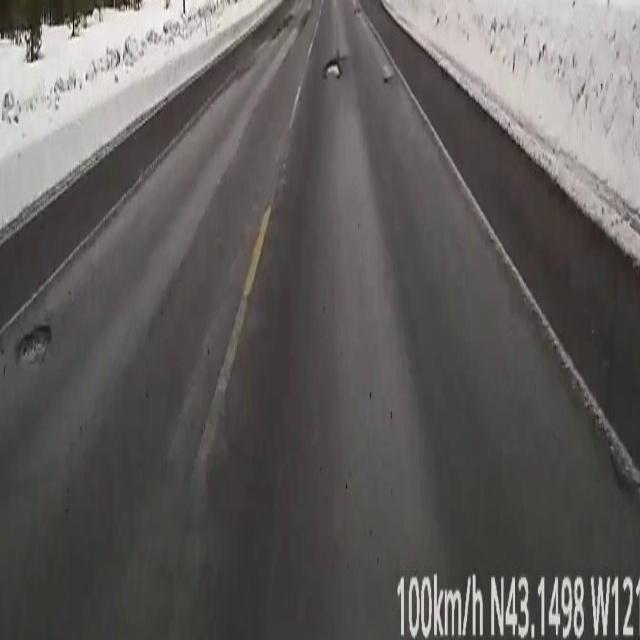pothole: (17, 322, 50, 366), (326, 64, 342, 76)
